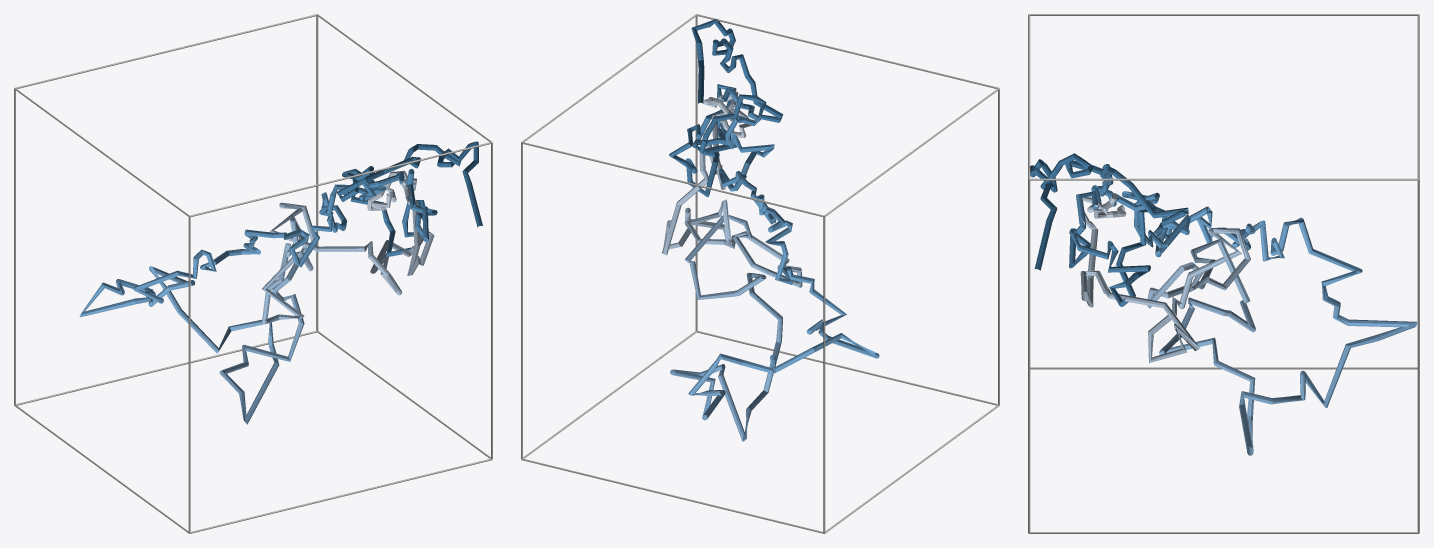
The picture shows the model from 3 angles, left to right: view 1: azimuth 30°, elevation 25°; view 2: azimuth 150°, elevation 25°; view 3: azimuth 270°, elevation 25°; orthographic projection. The views are drawn at different scales.
Visible parts, largest first — view 1: geometry_0, geometry_1; view 2: geometry_0, geometry_1; view 3: geometry_0, geometry_1.
Part boxes in pixels (x1,y1,x2,y2): geometry_0: [79, 141, 482, 424]; geometry_1: [14, 14, 492, 533]; geometry_0: [662, 19, 879, 441]; geometry_1: [521, 14, 999, 533]; geometry_0: [1030, 153, 1417, 455]; geometry_1: [1028, 14, 1419, 533].
Bounding box in the file's own units: 0.3016 × 0.3042 × 0.3016.
